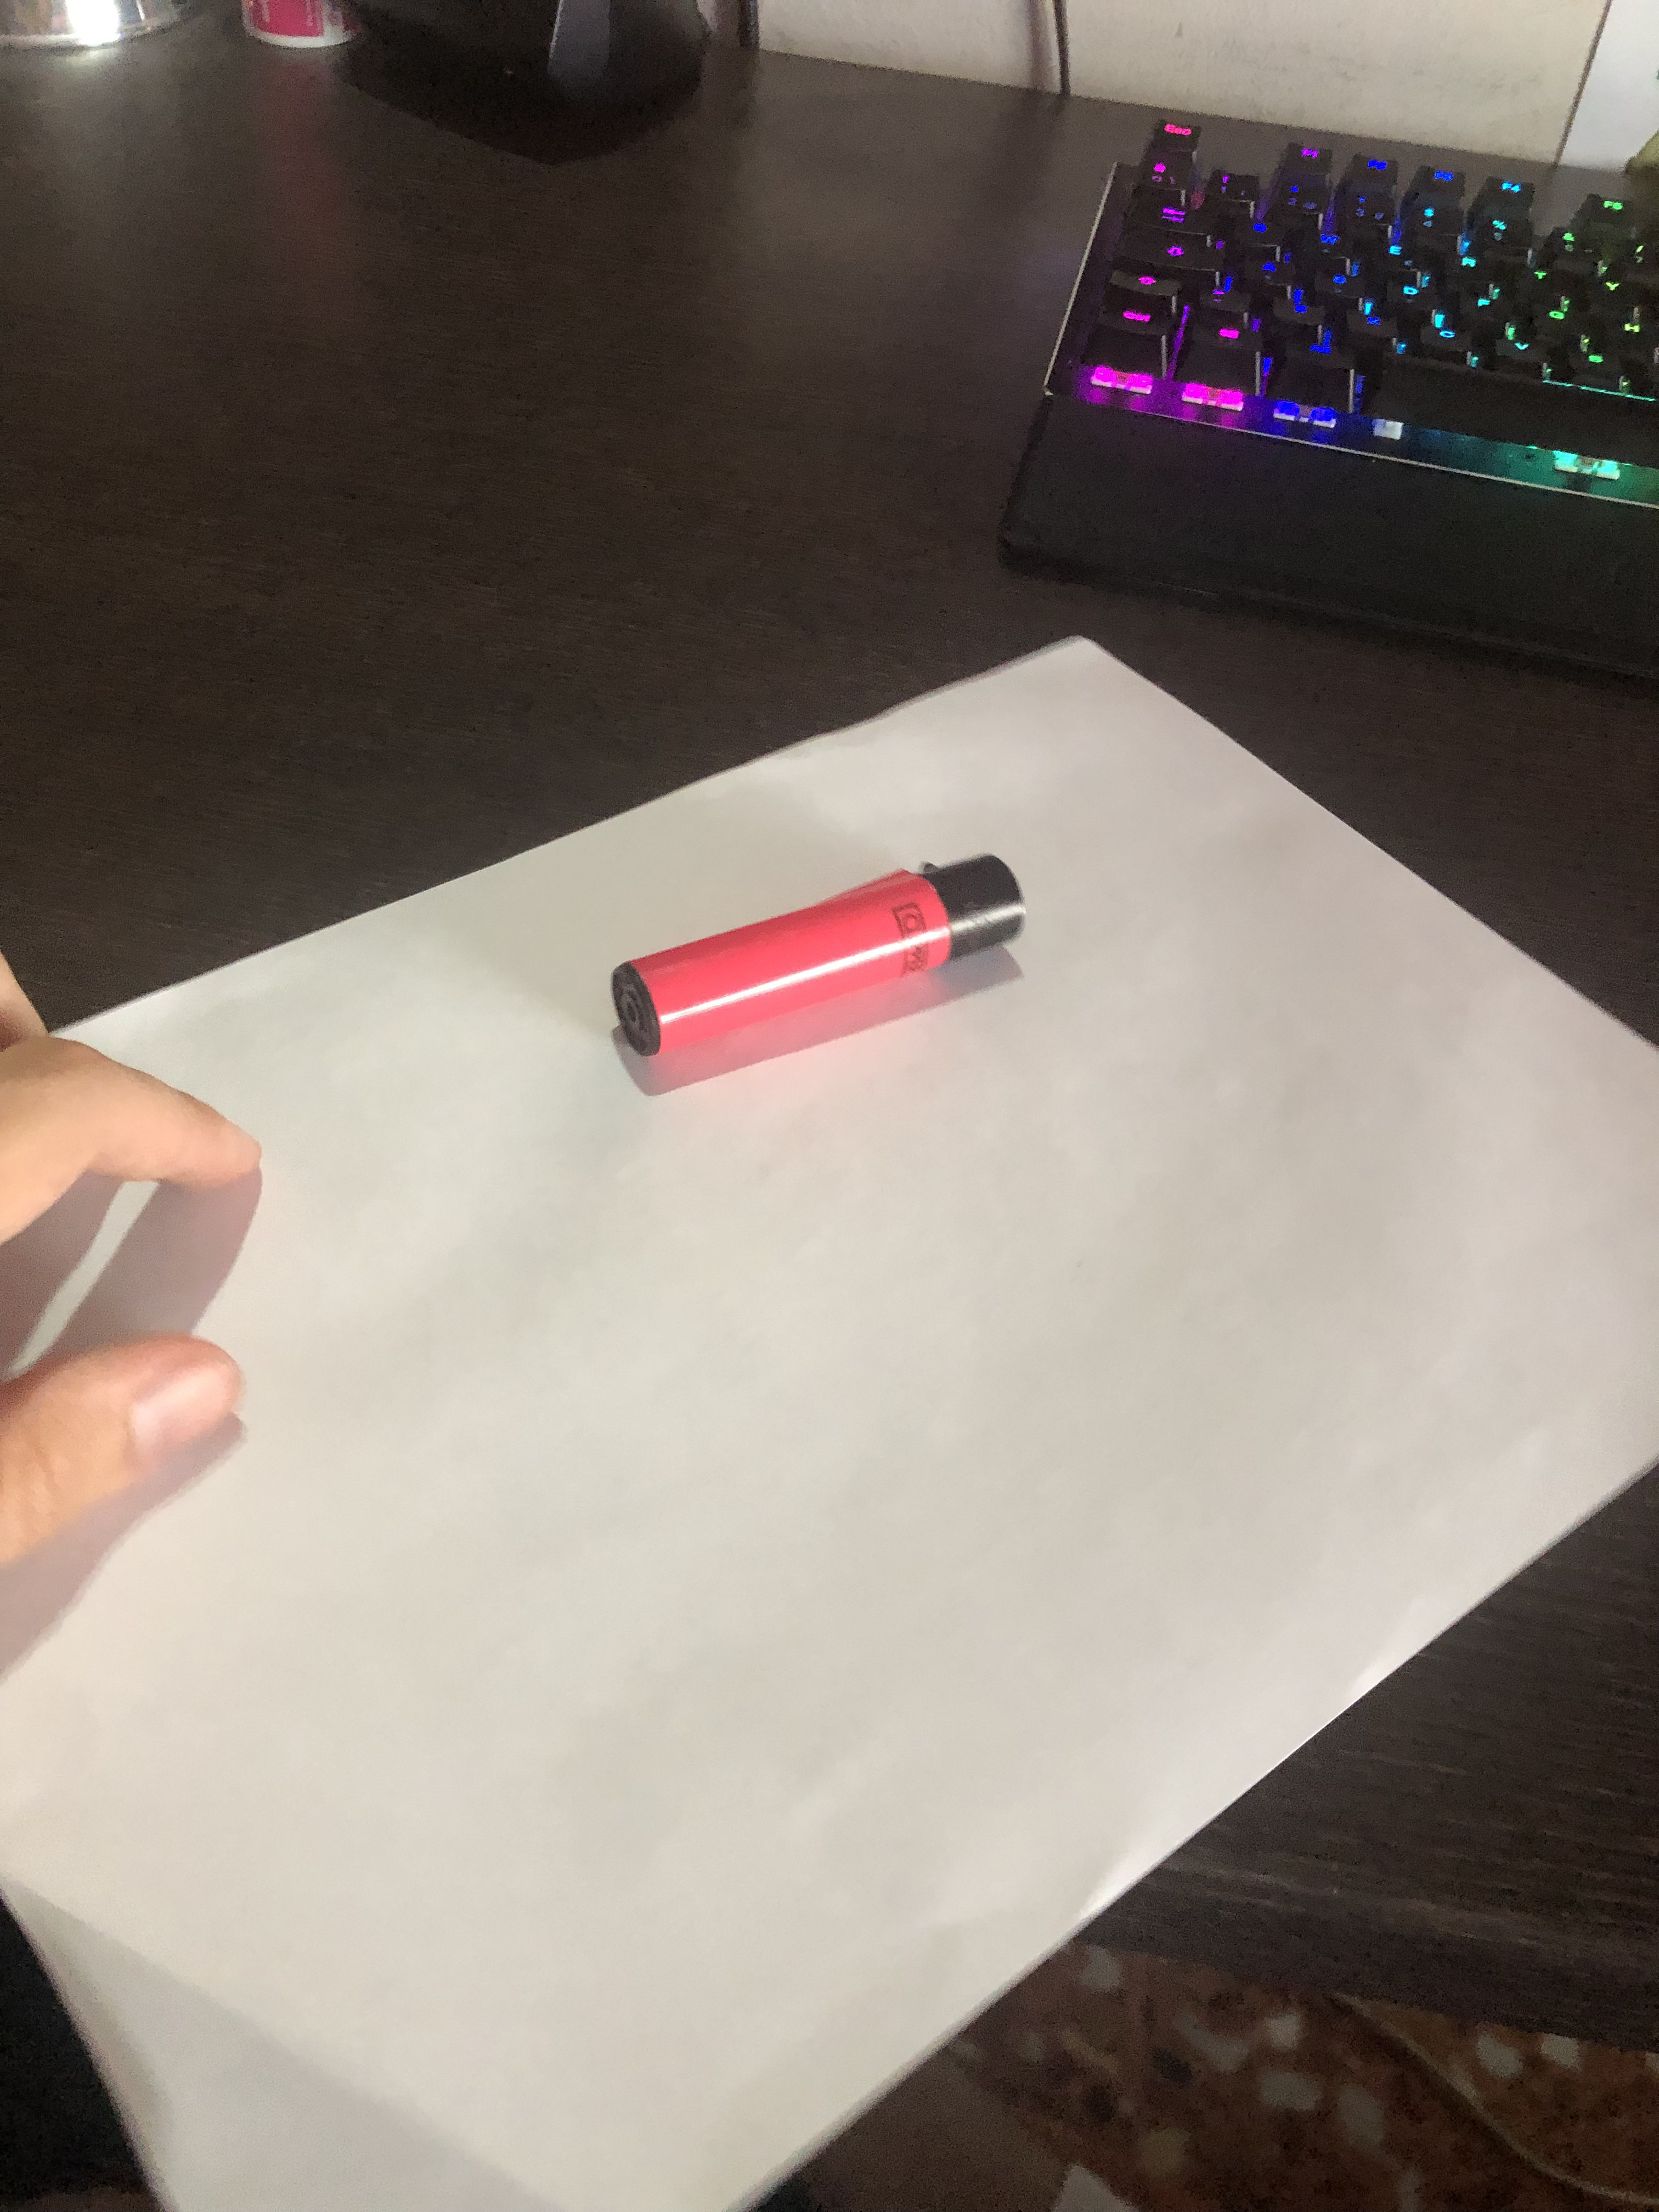Mechero: (592, 810, 1033, 1078)
